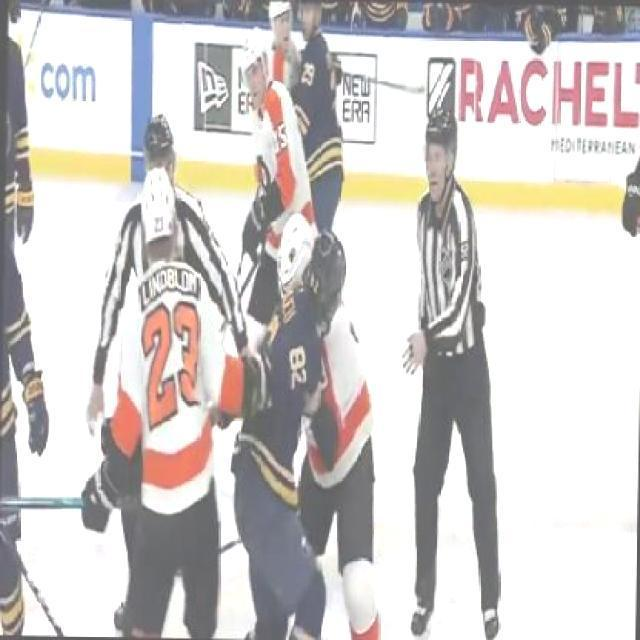fight: (235, 216, 388, 638)
